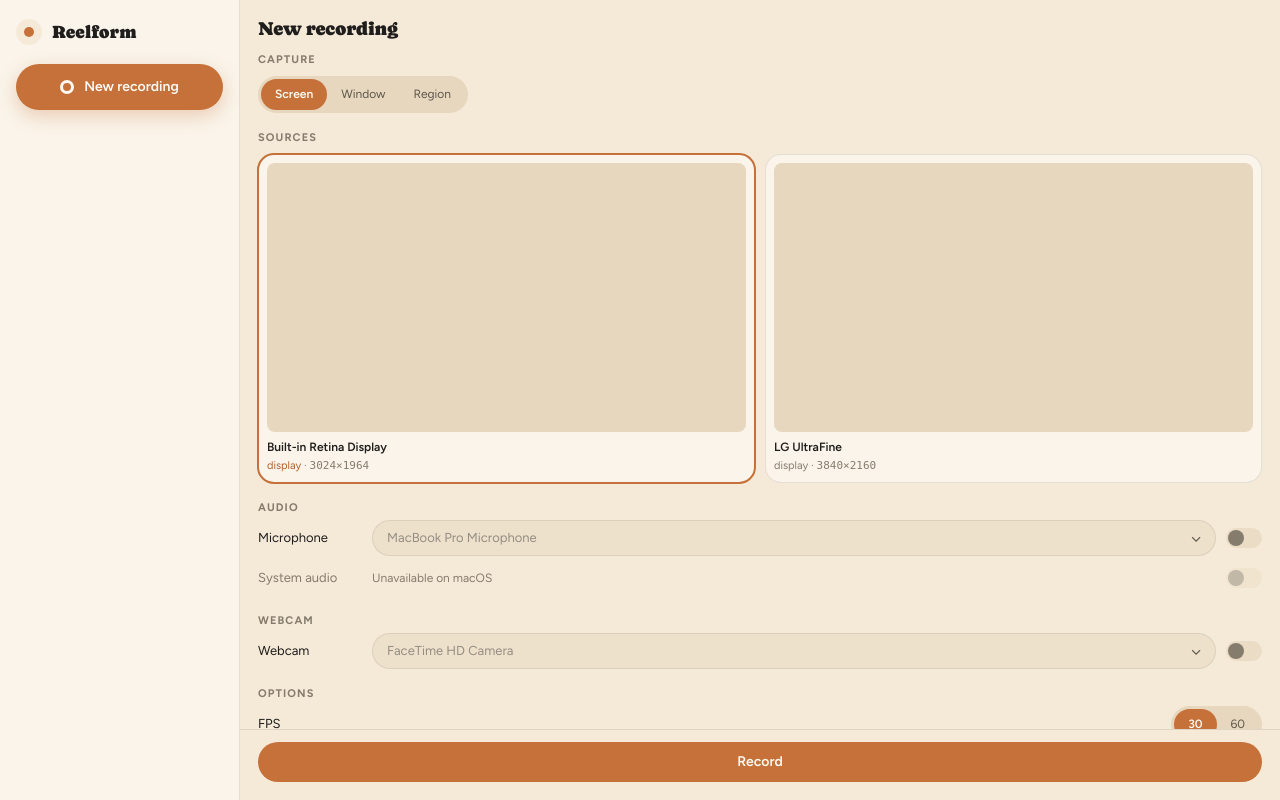
Test: Launcher › lists displays for Screen and windows for Window
Expected: the text "Built-in Retina Display" is shown, [267,440,387,454]
Expected: the text "LG UltraFine" is shown, [774,440,842,454]
Click the radio button labelled "Window". click: click(363, 94)
box: [341,87,386,101]
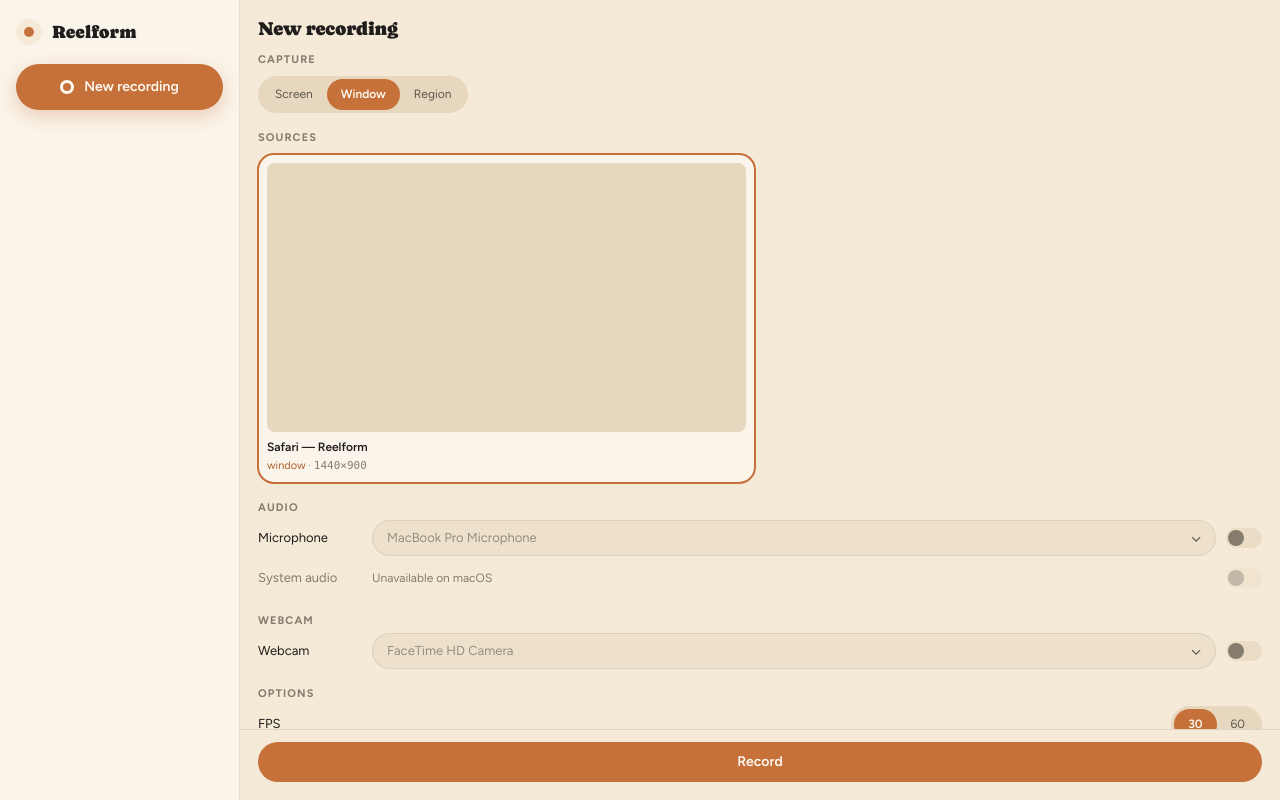
Expected: the text "Safari — Reelform" is shown, [267,440,368,454]
Expected: the button "LG UltraFine" is gone
